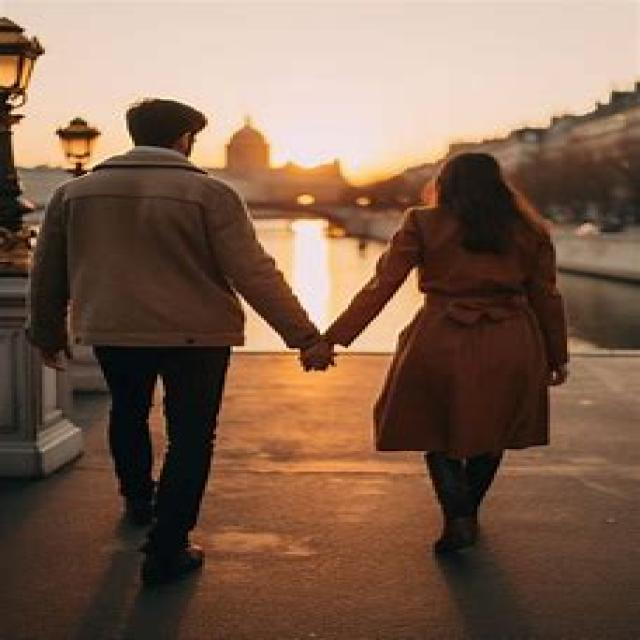stand: (54, 82, 268, 583), (378, 157, 546, 541)
